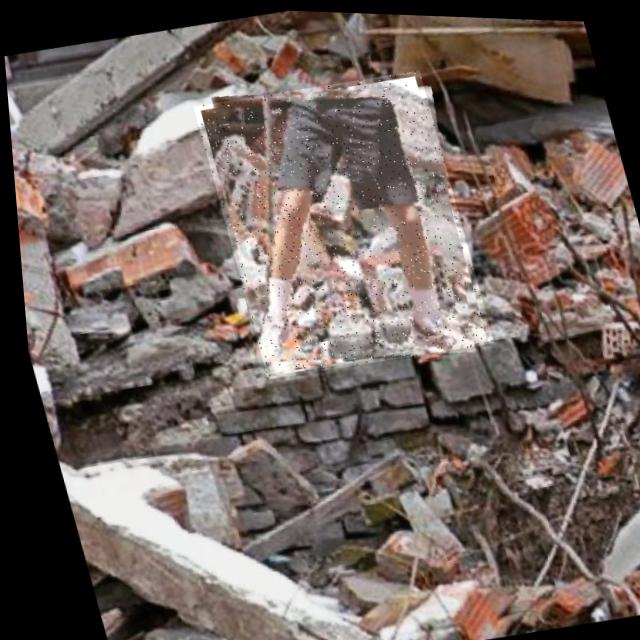Person in Rubble: (189, 60, 491, 385)
